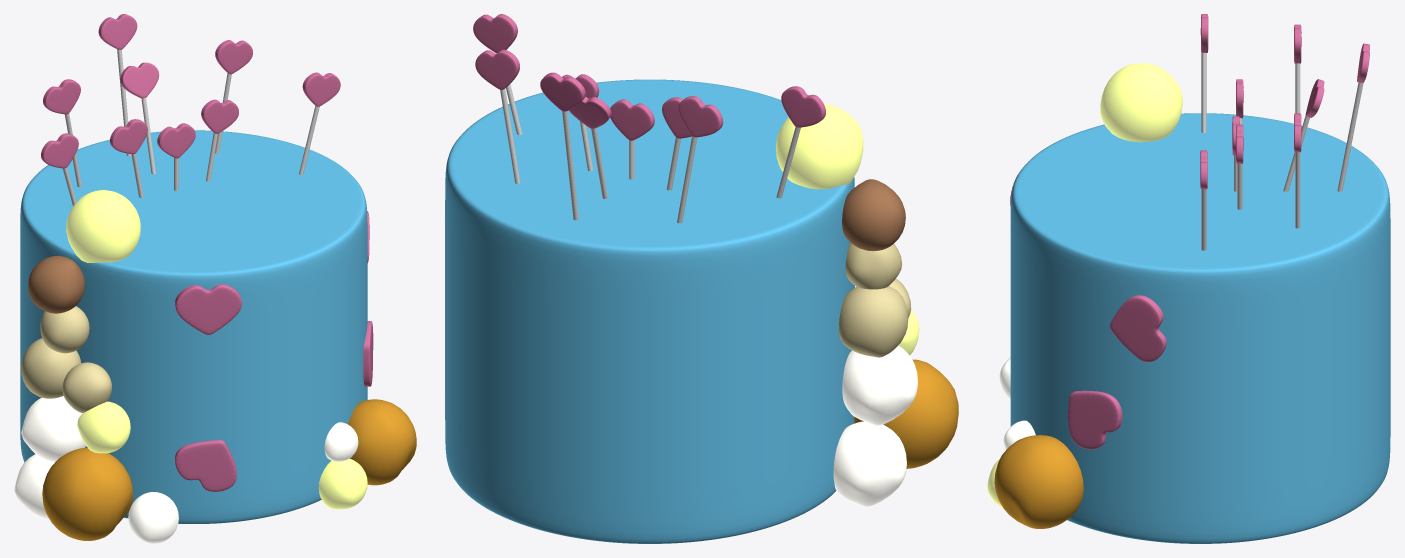
Rendered from Cake_Layer_1_LightBlue_Topper1_Hearts_NoDrip.glb.
3 views of the same model, side by side, from view 1: azimuth 30°, elevation 25°; view 2: azimuth 150°, elevation 25°; view 3: azimuth 270°, elevation 25° (orthographic). The views are drawn at different scales.
Parts seen in each view (by area): view 1: Circle.002, Sphere, Sphere.015, Sphere.026, Sphere.002, Sphere.006, Star.003, Star.002, Sphere.005, Sphere.003, Sphere.001, Sphere.025 (+14 smaller); view 2: Circle.002, Sphere.015, Sphere.013, Sphere.002, Sphere, Sphere.005, Sphere.006, Sphere.010, Star.005, Star.006, Star.009, Star.008 (+5 smaller); view 3: Circle.002, Sphere.026, Sphere.015, Star.001, Star.004, Cylinder.049, Sphere.027.
Boxes of the visible parts, x1,y1,x2,y2 form: Circle.002: [20, 130, 367, 523]; Sphere: [42, 448, 132, 540]; Sphere.015: [66, 190, 140, 262]; Sphere.026: [348, 399, 416, 485]; Sphere.002: [21, 396, 85, 462]; Sphere.006: [28, 256, 84, 313]; Star.003: [175, 284, 241, 334]; Star.002: [175, 440, 236, 491]; Sphere.005: [21, 338, 80, 398]; Sphere.003: [77, 401, 130, 453]; Sphere.001: [128, 492, 178, 543]; Sphere.025: [318, 458, 367, 509]; Circle.002: [445, 79, 854, 543]; Sphere.015: [775, 104, 863, 189]; Sphere.013: [833, 421, 906, 507]; Sphere.002: [842, 345, 917, 425]; Sphere: [854, 359, 958, 468]; Sphere.005: [838, 286, 908, 357]; Sphere.006: [842, 179, 905, 251]; Sphere.010: [845, 242, 901, 289]; Star.005: [781, 86, 825, 127]; Star.006: [678, 96, 723, 137]; Star.009: [475, 49, 519, 90]; Star.008: [610, 99, 654, 140]; Circle.002: [1010, 113, 1390, 543]; Sphere.026: [994, 435, 1083, 528]; Sphere.015: [1100, 63, 1182, 142]; Star.001: [1110, 295, 1166, 362]; Star.004: [1068, 390, 1122, 449]; Cylinder.049: [1337, 82, 1363, 191]; Sphere.027: [1003, 420, 1035, 449].
Bounding box in the file's own units: 0.1763 × 0.1867 × 0.1591.
